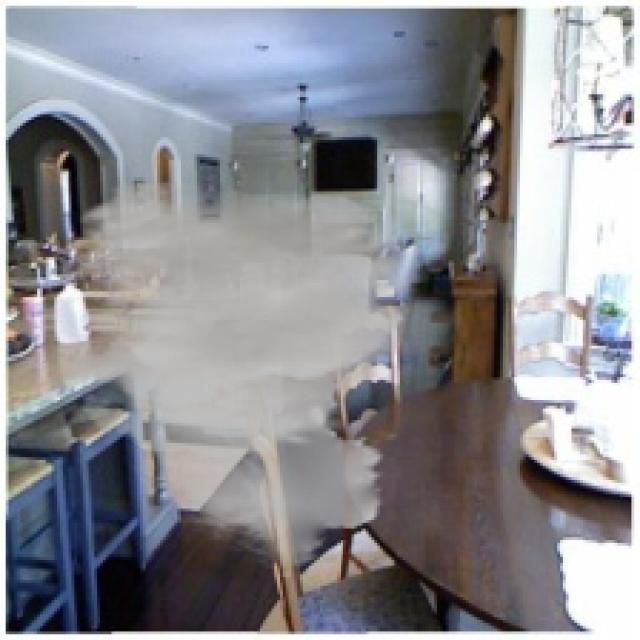Smoke: (59, 180, 472, 580)
